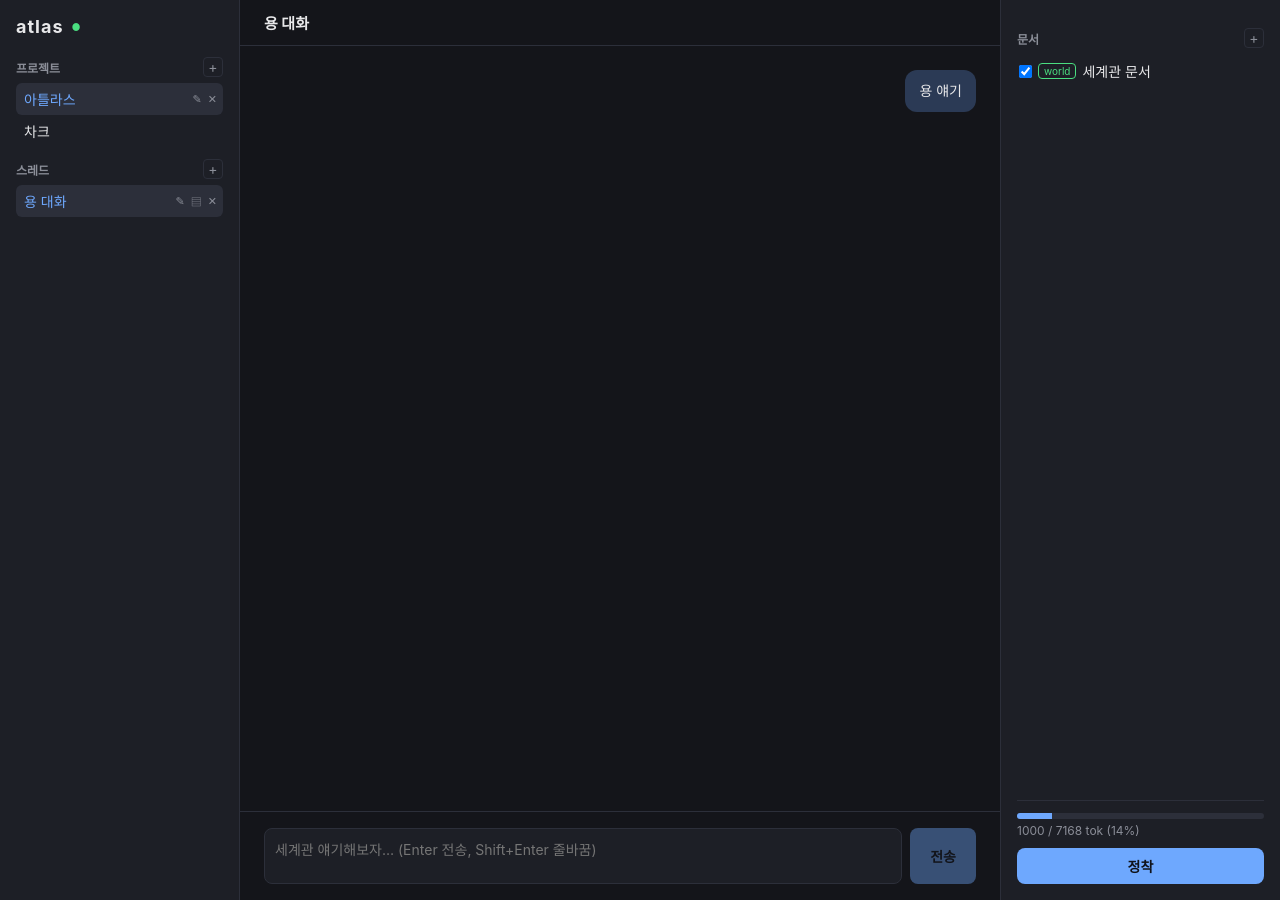
Test: 프로젝트를 바꾸면 스레드 선택이 풀린다
Step 1. Click the button "아틀라스" → point(103, 99), box [16,83,191,115]
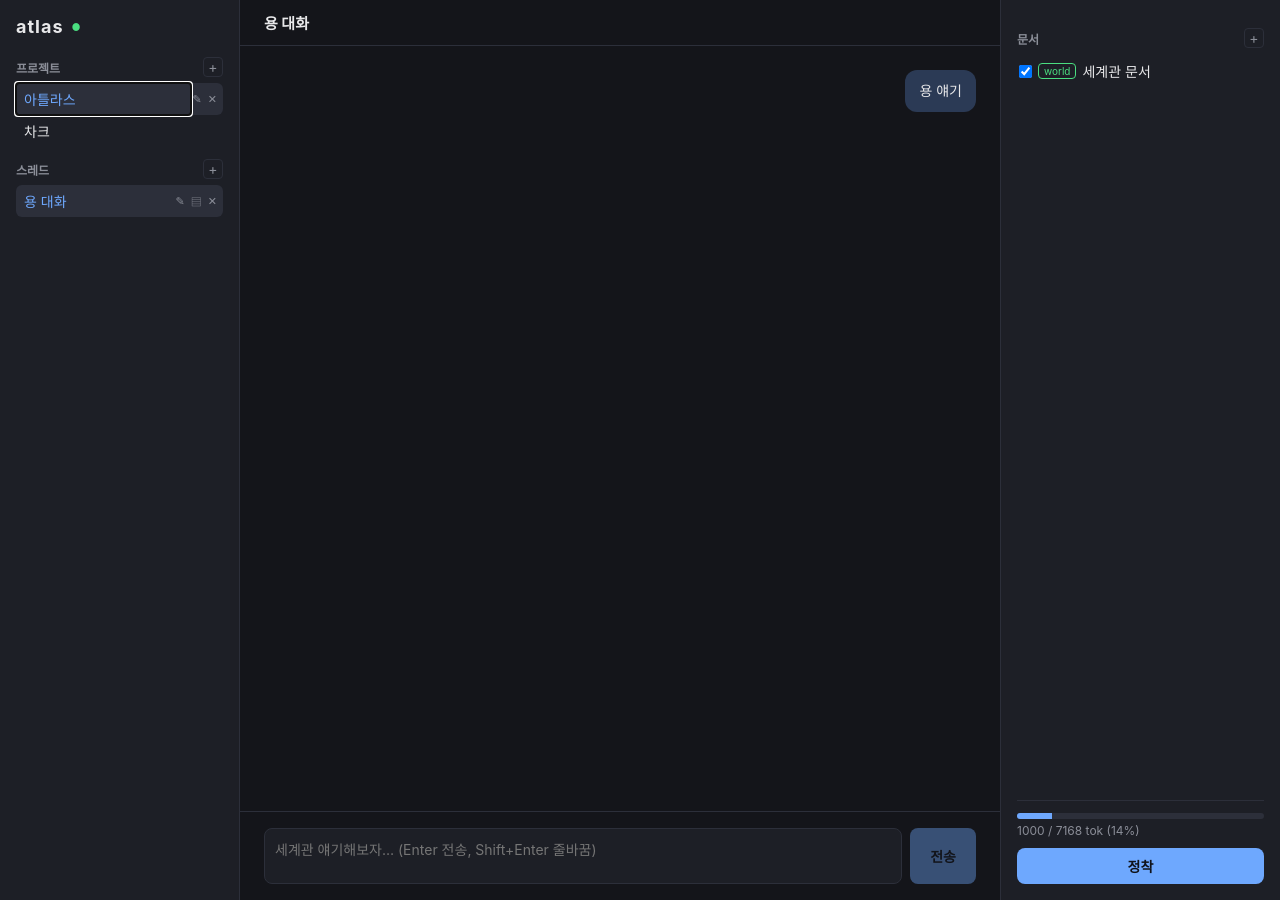
Step 2. Click the button "용 대화" → point(95, 201), box [16,185,174,217]
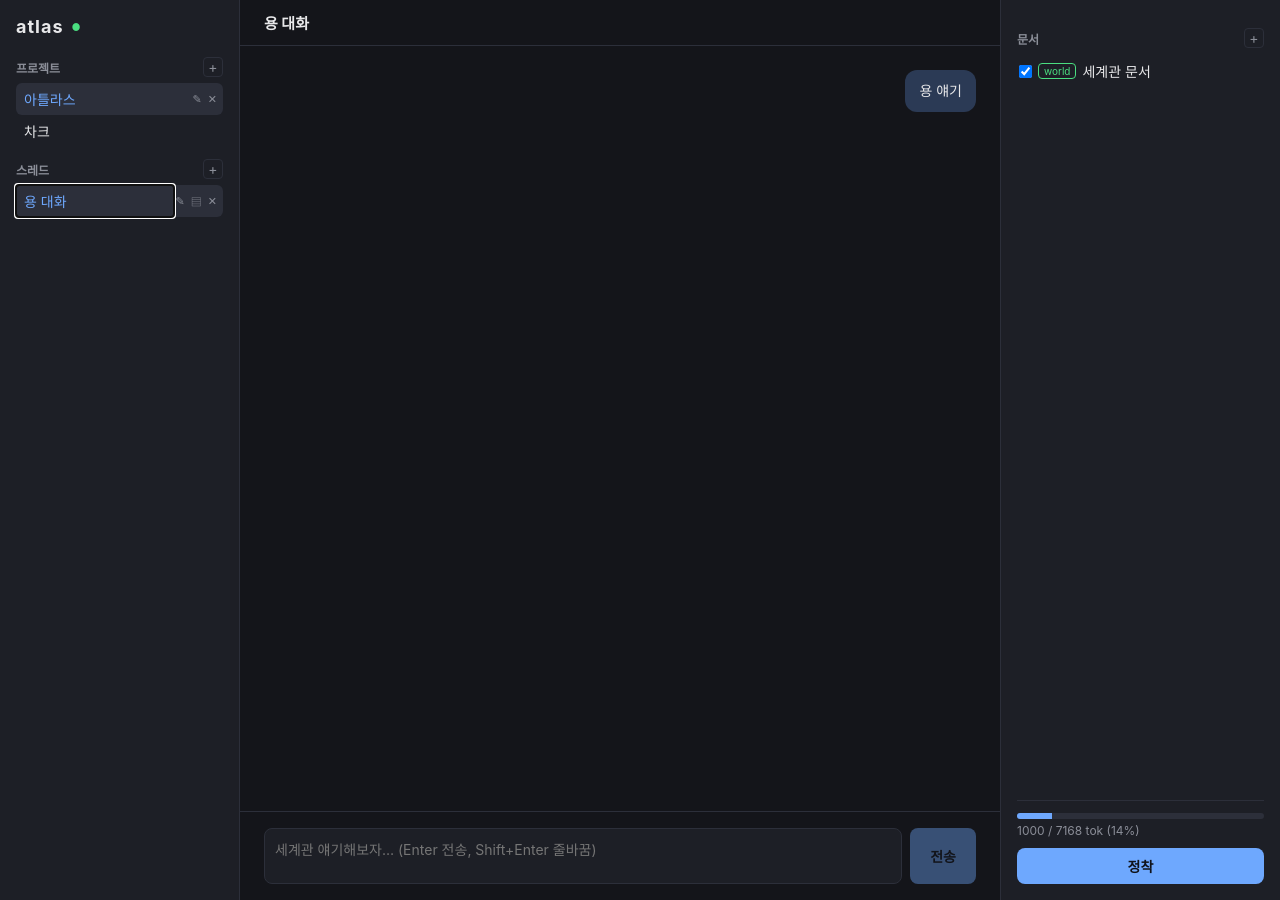
Check: the text box named "메시지 입력" is shown, box [264,828,902,884]
Step 3. Click the button "차크" → point(120, 131), box [16,115,223,147]
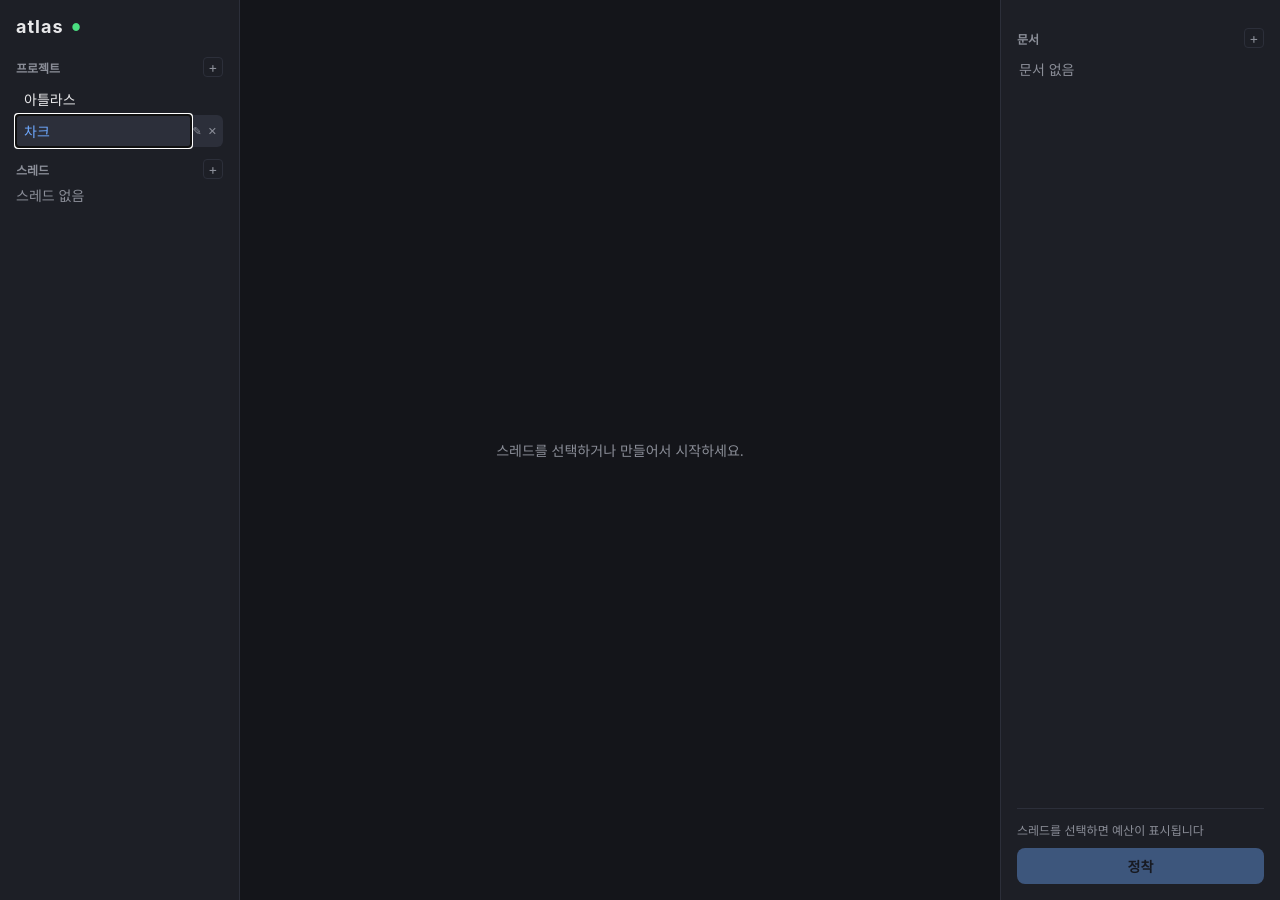
Check: the text "스레드를 선택하거나 만들어서 시작하세요." is shown, box [496,440,744,460]
